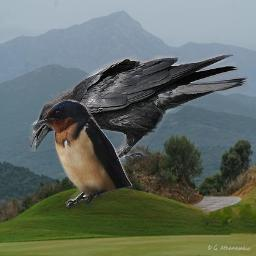Crow: (29, 54, 248, 161)
Swallow: (37, 99, 133, 209)
